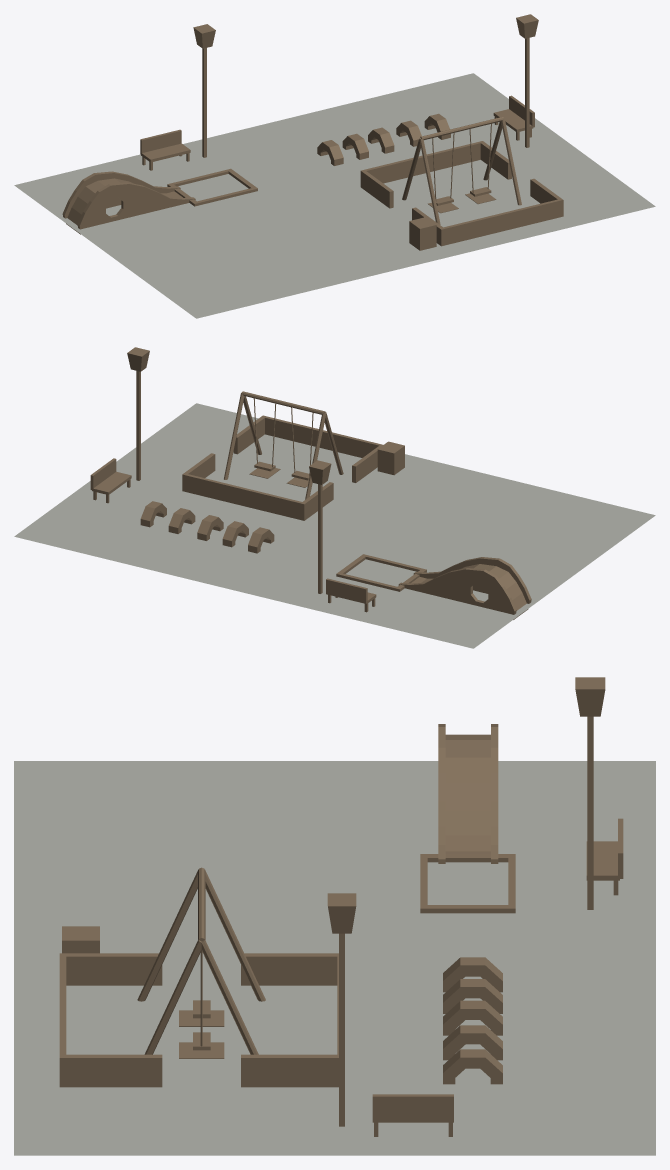
Rendered from playground.fbx.
3 views of the same model, one above another, from view 1: azimuth 30°, elevation 25°; view 2: azimuth 150°, elevation 25°; view 3: azimuth 270°, elevation 25° (orthographic). The views are drawn at different scales.
Visible parts, largest first — view 1: pPlane108, pCube416, pCube415, polySurface311, pCube440 (×2), polySurface312, polySurface314, polySurface313, pCube433, pCube435, pCube434, pCylinder103 (+2 smaller); view 2: pPlane108, pCube416, pCube415, polySurface312, pCube440 (×2), polySurface311, polySurface314, polySurface313, pCube433, pCube435, pCube434, pCylinder104 (+4 smaller); view 3: pPlane108, pCube415, pCube416, polySurface313, pCube440 (×2), pCube435, polySurface314, pCube441 (×2), pCylinder102, pCylinder103, pCylinder104, pCylinder101 (+9 smaller).
Part boxes in pixels (x1,y1,x2,y2): pPlane108: [14, 73, 655, 318]; pCube416: [360, 141, 511, 208]; pCube415: [412, 178, 563, 246]; polySurface311: [77, 182, 195, 229]; pCube440 (×2): [202, 38, 529, 157]; polySurface312: [62, 171, 180, 218]; polySurface314: [167, 168, 257, 206]; polySurface313: [66, 178, 182, 234]; pCube433: [409, 217, 436, 250]; pCube435: [140, 129, 181, 154]; pCube434: [141, 143, 190, 162]; pCylinder103: [368, 127, 394, 153]; pPlane108: [14, 403, 655, 648]; pCube416: [182, 453, 333, 520]; pCube415: [233, 415, 382, 482]; polySurface312: [398, 568, 516, 614]; pCube440 (×2): [136, 371, 322, 593]; polySurface311: [413, 557, 531, 603]; polySurface314: [336, 554, 426, 591]; polySurface313: [411, 564, 528, 619]; pCube433: [377, 441, 404, 475]; pCube435: [326, 578, 367, 603]; pCube434: [92, 471, 131, 494]; pCylinder104: [168, 508, 195, 533]; pPlane108: [14, 761, 655, 1155]; pCube415: [59, 953, 162, 1087]; pCube416: [241, 953, 338, 1087]; polySurface313: [445, 734, 490, 853]; pCube440 (×2): [339, 716, 593, 1126]; pCube435: [372, 1094, 453, 1122]; polySurface314: [420, 854, 515, 913]; pCube441 (×2): [327, 677, 605, 933]; pCylinder102: [443, 1049, 502, 1084]; pCylinder103: [443, 1000, 502, 1035]; pCylinder104: [443, 1025, 502, 1060]; pCylinder101: [443, 957, 502, 992].
Size of the model in its own units: 23.32 by 6.97 by 16.03.
